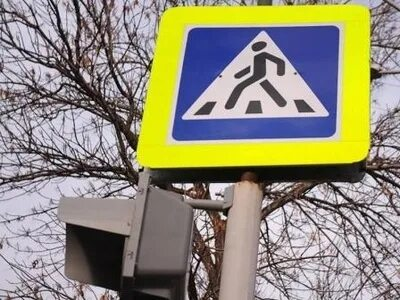crosswalk: (183, 29, 330, 133)
